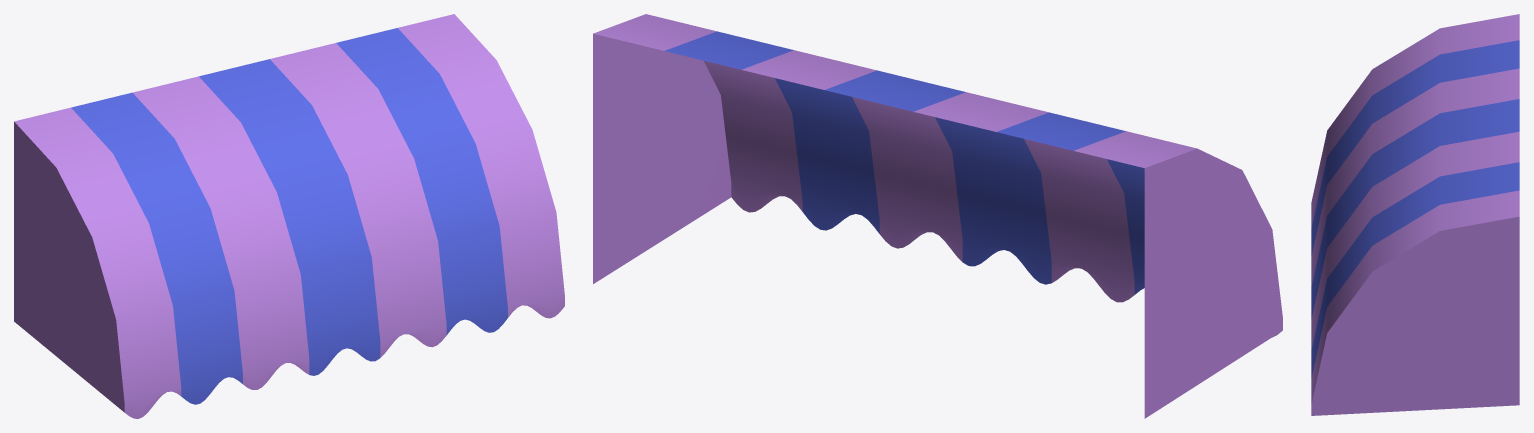
The model's file is WindowAwning_Variety1.fbx.
The picture shows the model from 3 angles, left to right: view 1: azimuth 30°, elevation 25°; view 2: azimuth 150°, elevation 25°; view 3: azimuth 270°, elevation 25°; orthographic projection. The views are drawn at different scales.
Parts seen in each view (by area): view 1: Cylinder; view 2: Cylinder; view 3: Cylinder.
Boxes of the visible parts, bbox=[...] form: Cylinder: bbox=[14, 14, 564, 418]; Cylinder: bbox=[593, 14, 1282, 418]; Cylinder: bbox=[1311, 14, 1519, 415].
Size of the model in its own units: 1.63 by 0.7802 by 0.7092.
